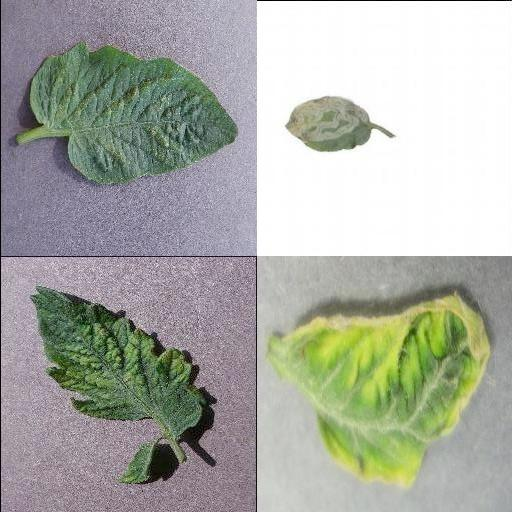Leaf Miner: (284, 93, 372, 150)
Mosaic Virus: (27, 285, 207, 483)
Spider Mites: (28, 44, 238, 186)
Yellow Leaf Curl Virus: (268, 292, 490, 490)
